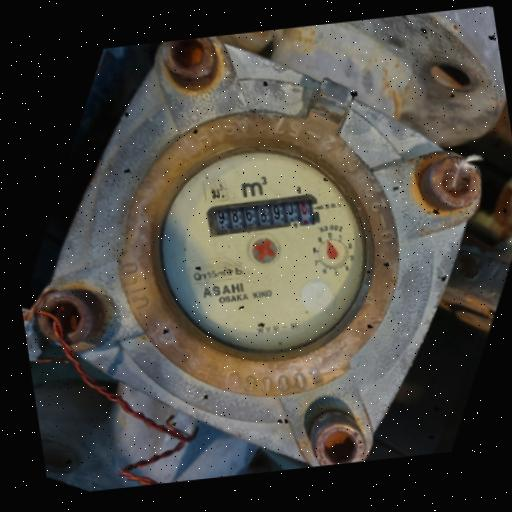0: (285, 200, 298, 221)
6: (244, 206, 256, 227)
8: (299, 199, 311, 225), (257, 203, 271, 225), (230, 207, 243, 229)
9: (215, 209, 230, 230), (271, 201, 284, 223)
border_water_meter_number: (205, 193, 323, 237)
